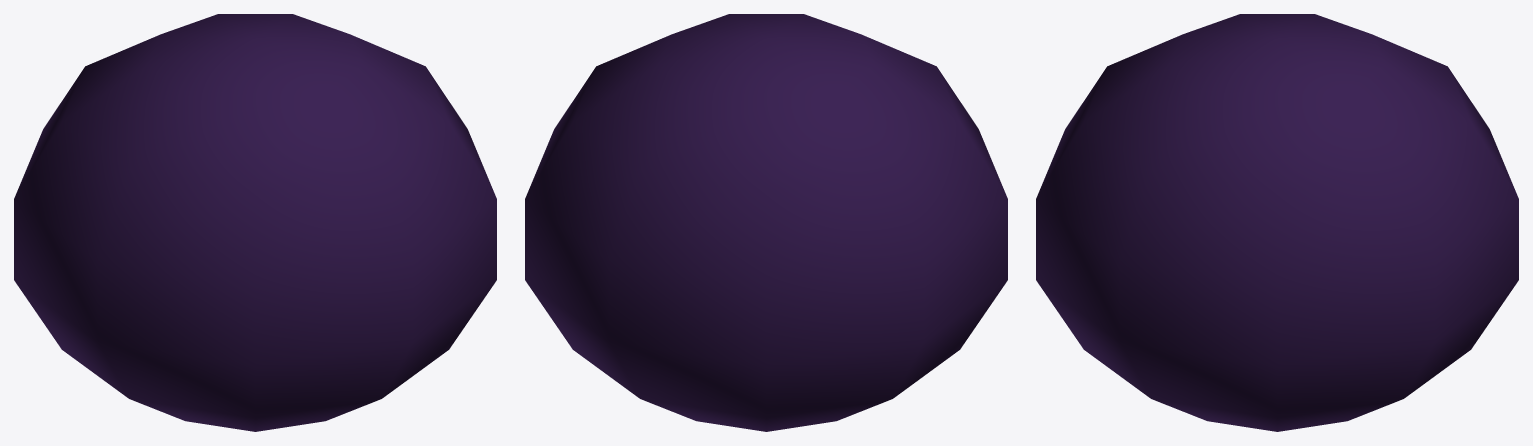
File: shadowmite_stage1.obj
The picture shows the model from 3 angles, left to right: view 1: azimuth 30°, elevation 25°; view 2: azimuth 150°, elevation 25°; view 3: azimuth 270°, elevation 25°; orthographic projection.
Bounding box in the file's own units: 1.23 × 1.04 × 1.25.
